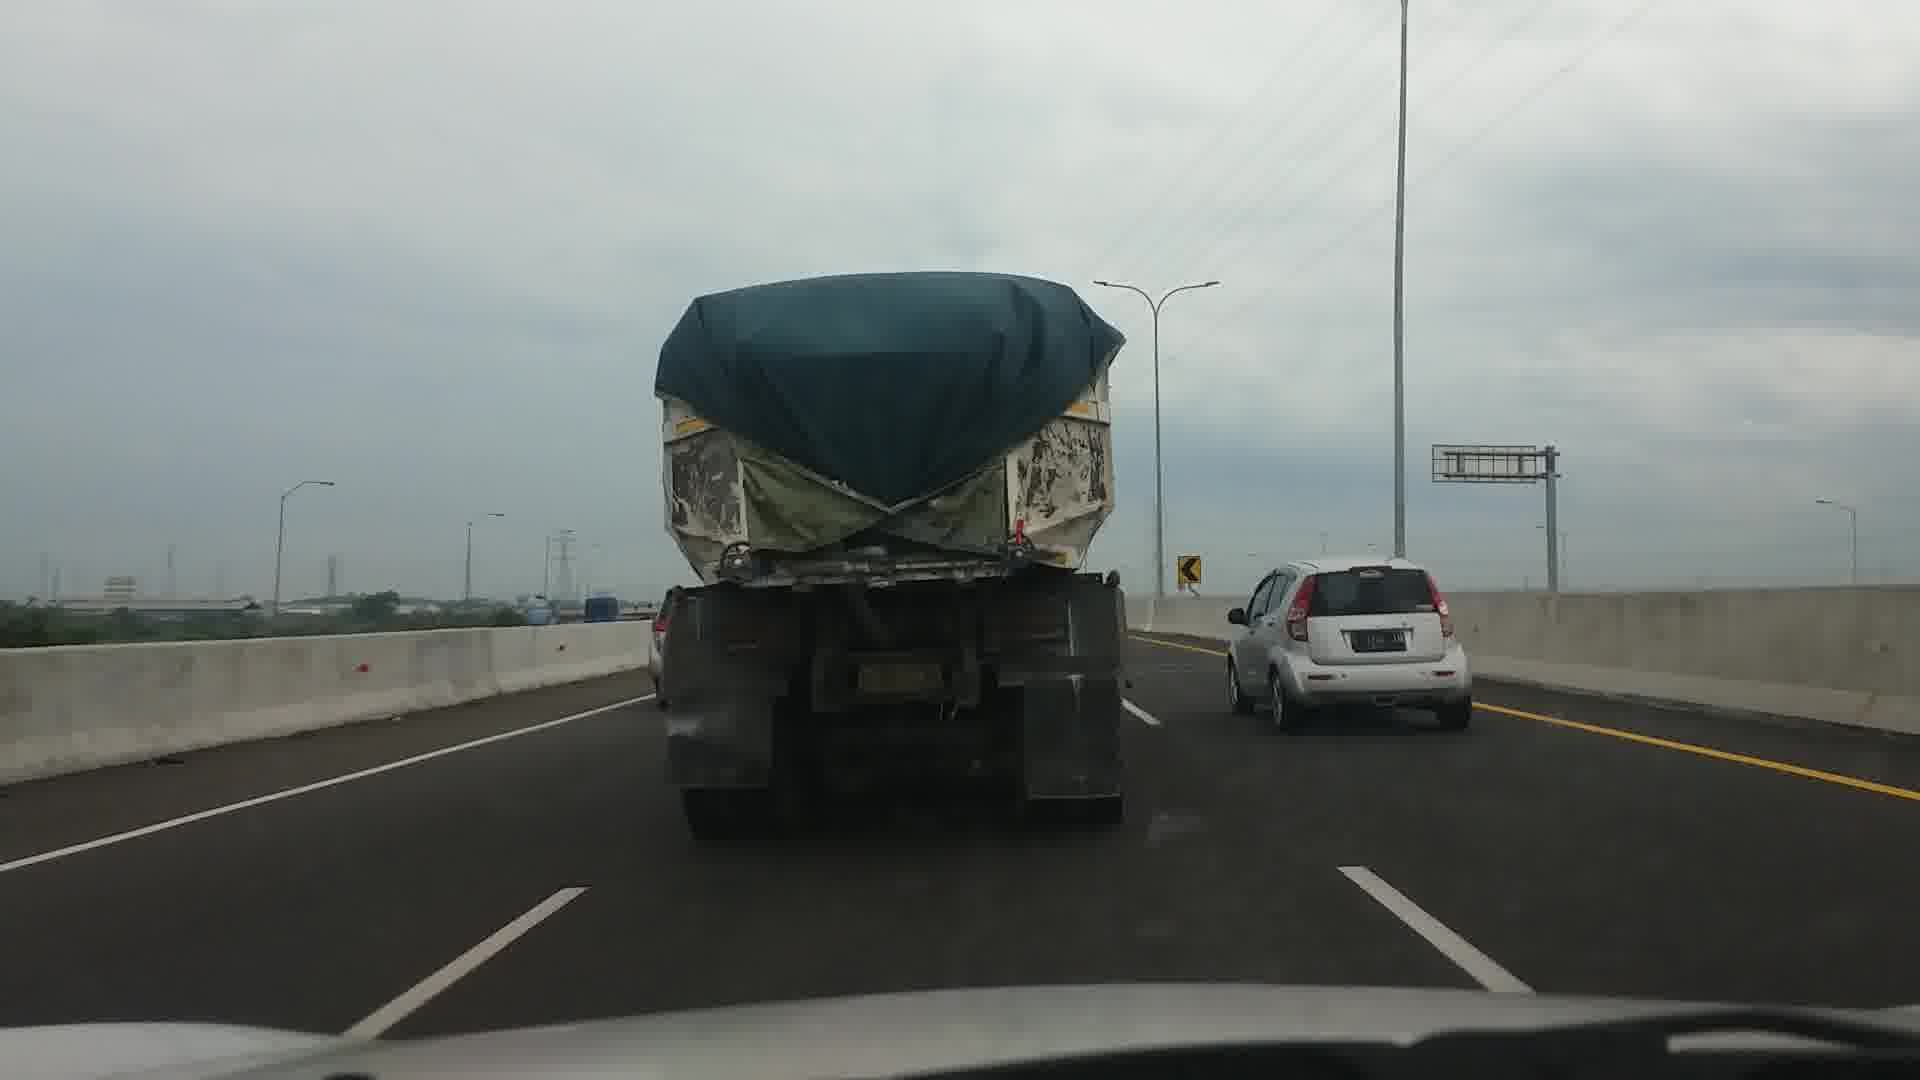plate_positive: (858, 661, 942, 694), (1352, 630, 1407, 653)
